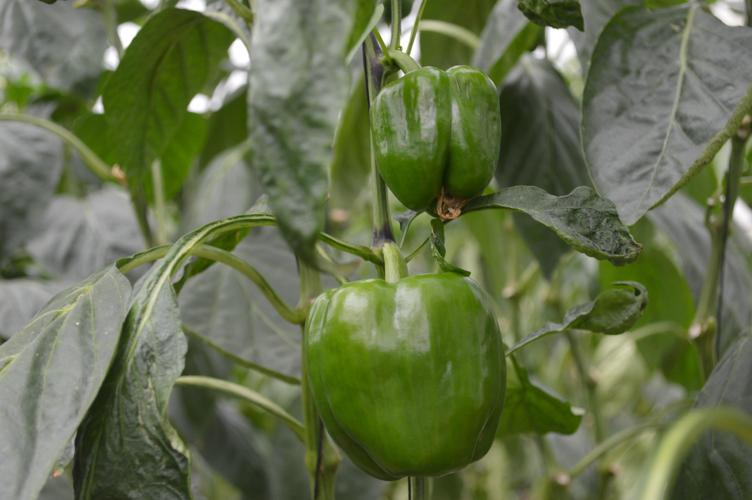BellPepper: (289, 276, 529, 480), (358, 72, 513, 218)
